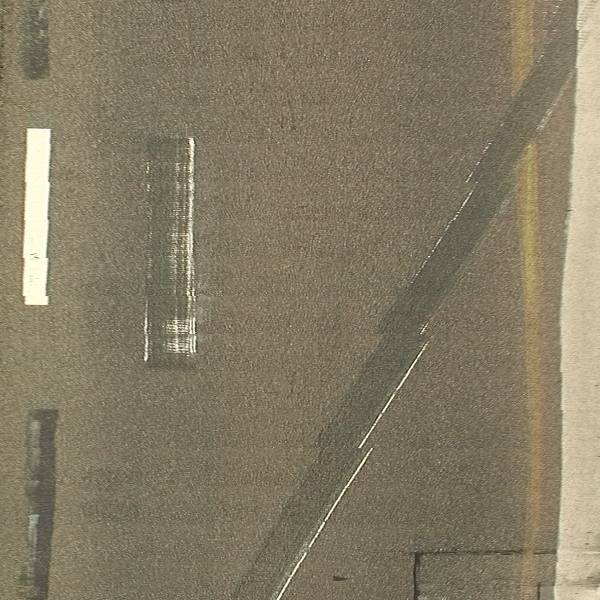road_damage: (398, 539, 572, 600)
